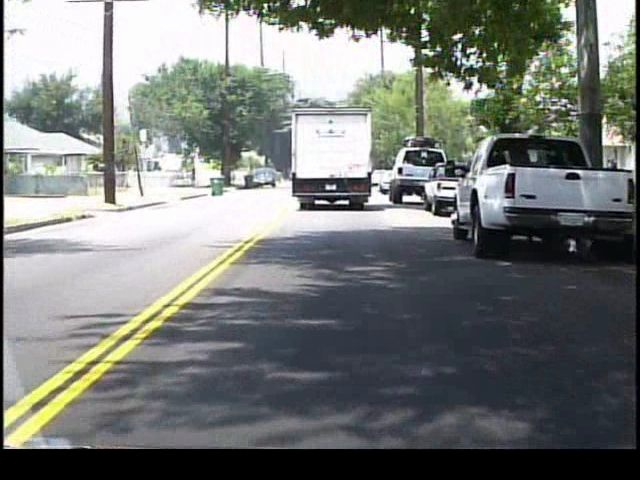person: (600, 156, 614, 200), (606, 156, 617, 204), (190, 163, 200, 186)
